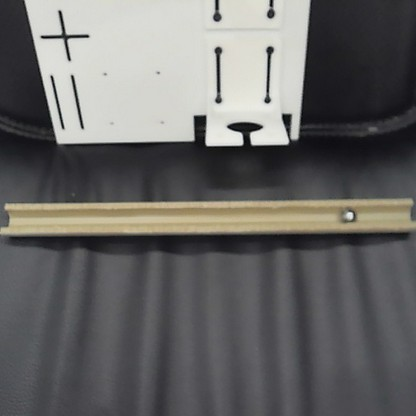ironball: (337, 206, 357, 224)
